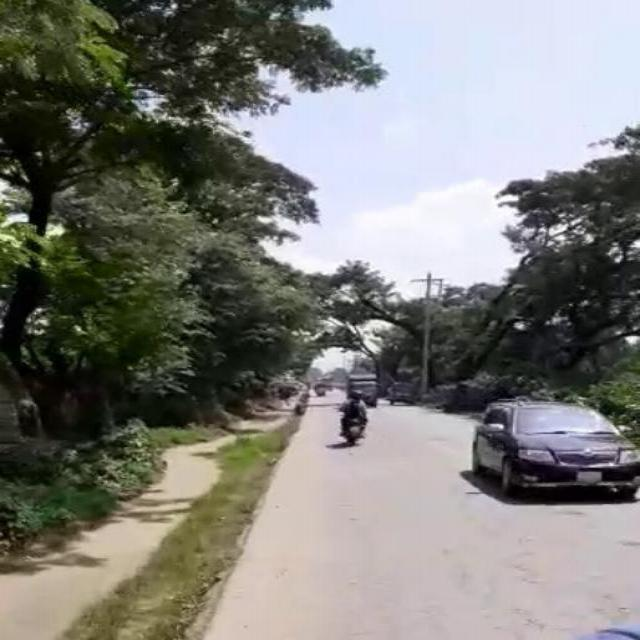bike: (337, 408, 363, 445)
vehicle: (469, 402, 635, 501)
